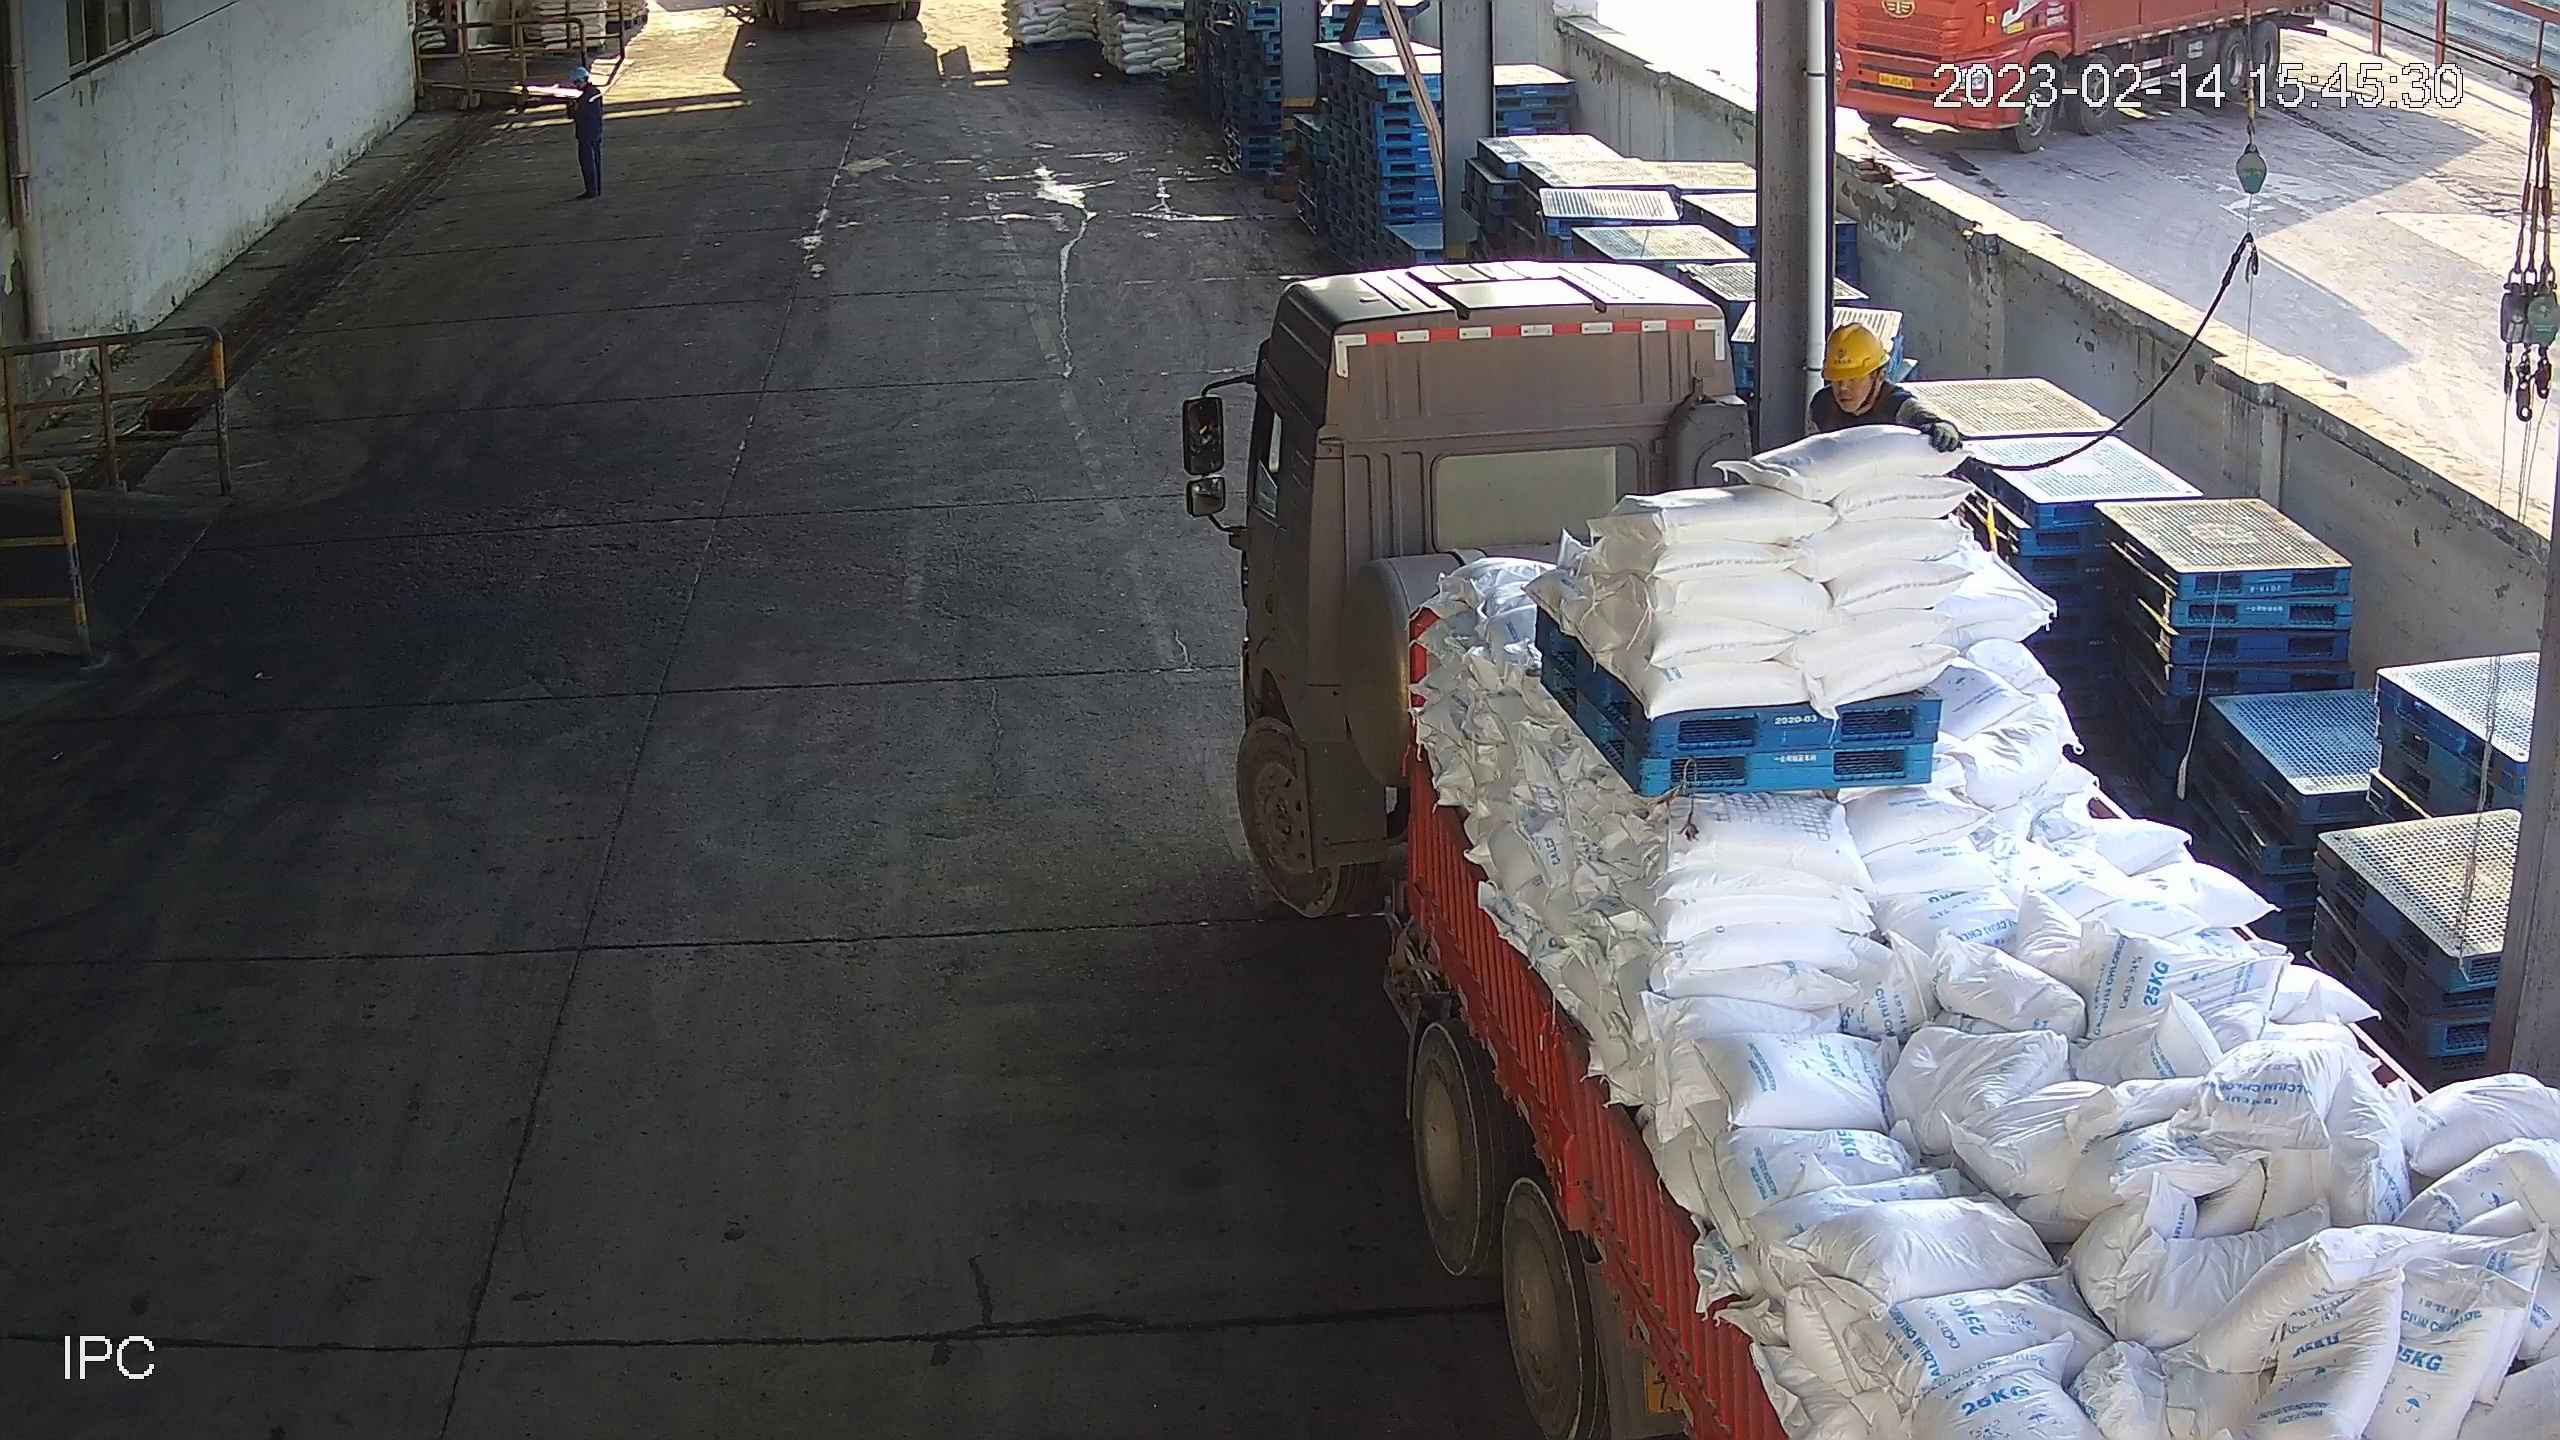belt: (1863, 386, 1909, 427)
head: (1809, 327, 1914, 420), (569, 65, 601, 102)
helmet: (1823, 323, 1881, 374), (568, 66, 588, 81)
people: (564, 66, 604, 200)
truck: (1172, 255, 2560, 1422)
